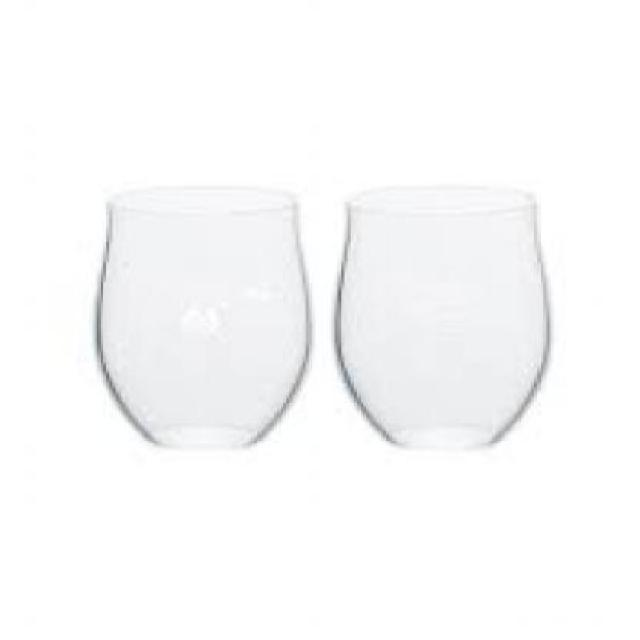kaca: (329, 186, 548, 451), (94, 184, 309, 450)
